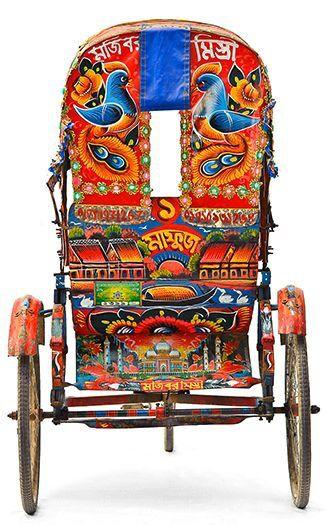Rickshaw: (9, 20, 318, 513)
